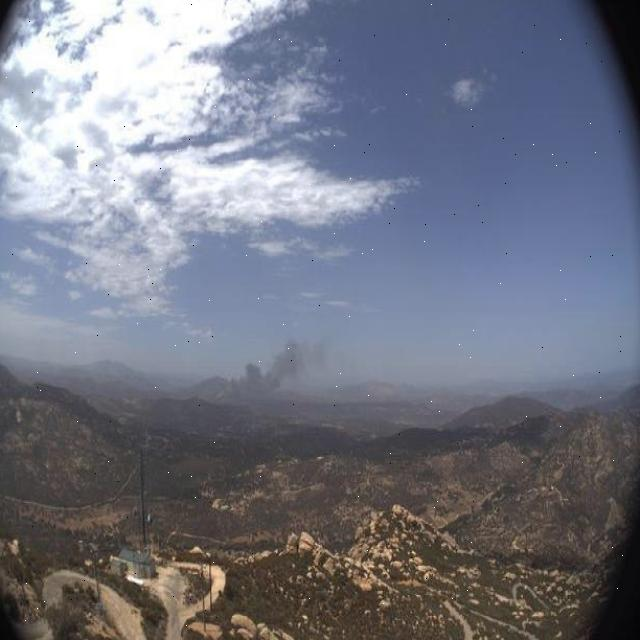smoke: (185, 333, 332, 404)
